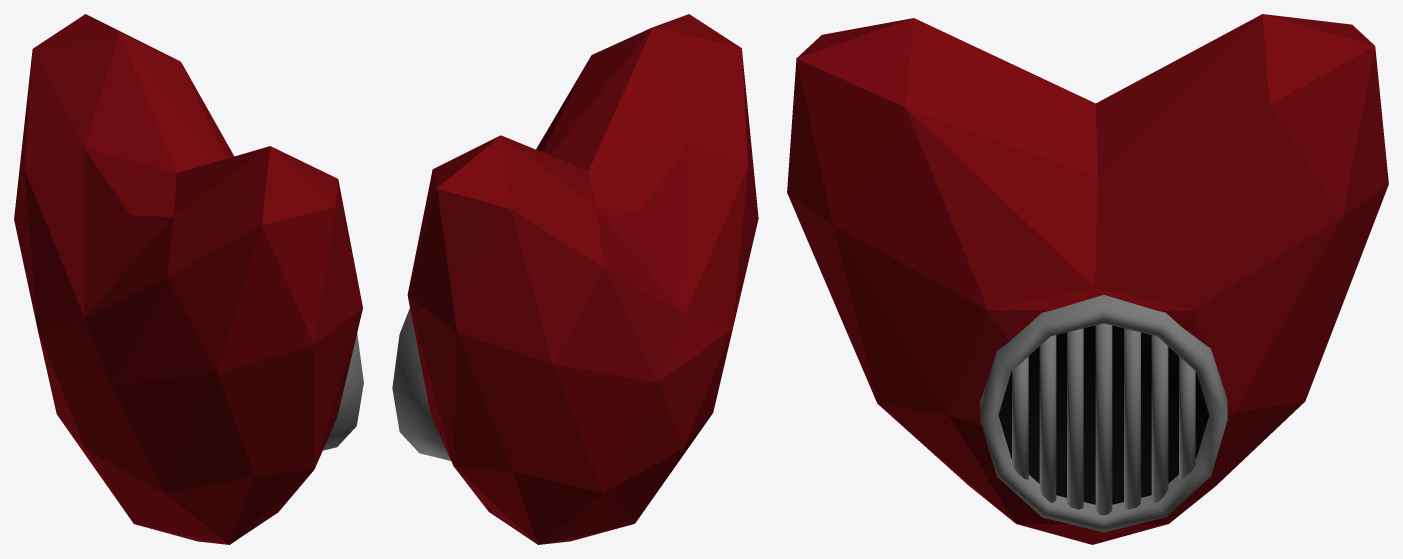
The model's file is ClockworkHeart.glb.
3 views of the same model, side by side, from view 1: azimuth 30°, elevation 25°; view 2: azimuth 150°, elevation 25°; view 3: azimuth 270°, elevation 25° (orthographic). The views are drawn at different scales.
Parts seen in each view (by area): view 1: Heart; view 2: Heart; view 3: Heart.
Part boxes in pixels (x1=…): Heart: x1=14, y1=14, x2=363, y2=544; Heart: x1=392, y1=14, x2=758, y2=544; Heart: x1=787, y1=14, x2=1388, y2=544.
Bounding box in the file's own units: 0.7826 × 1.42 × 1.46.
